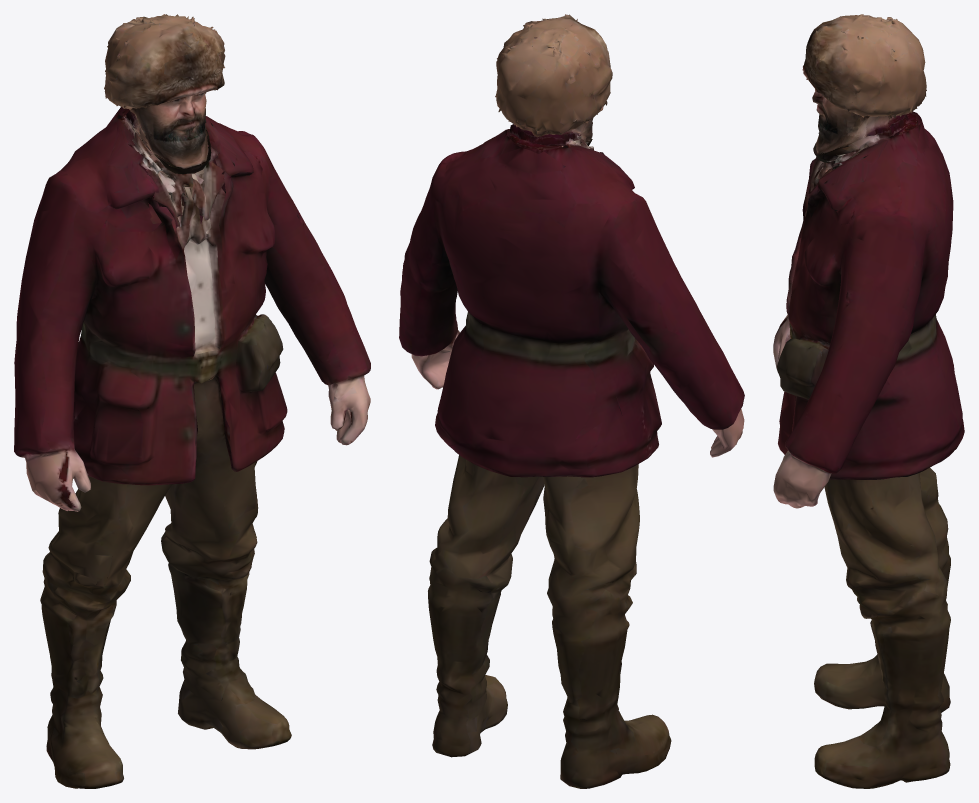
File: trader.glb
The picture shows the model from 3 angles, left to right: view 1: azimuth 30°, elevation 25°; view 2: azimuth 150°, elevation 25°; view 3: azimuth 270°, elevation 25°; orthographic projection. The views are drawn at different scales.
Parts seen in each view (by area): view 1: trader.raw; view 2: trader.raw; view 3: trader.raw.
Boxes of the visible parts, x1,y1,x2,y2 form: trader.raw: (14,14,370,788); trader.raw: (399,14,744,788); trader.raw: (773,14,964,788).
Bounding box in the file's own units: 0.8875 × 1.81 × 0.437.
1 material, 1 textured.
